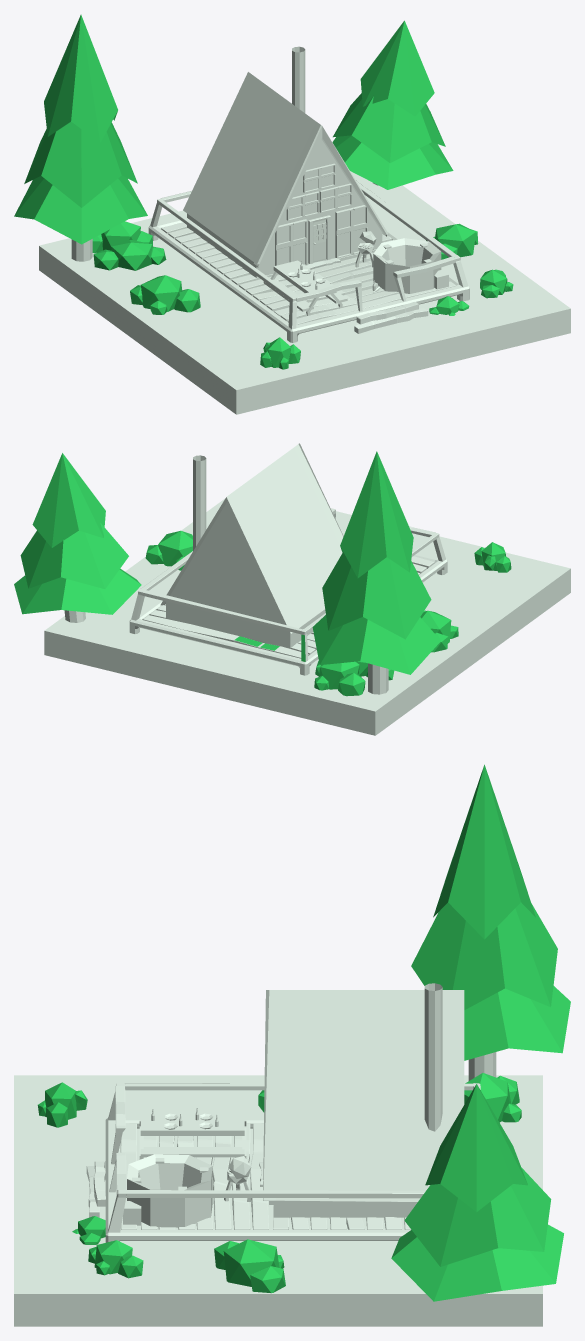
File: house.gltf
3 views of the same model, one above another, from view 1: azimuth 30°, elevation 25°; view 2: azimuth 150°, elevation 25°; view 3: azimuth 270°, elevation 25° (orthographic). The views are drawn at different scales.
Visible parts, largest first — view 1: house; view 2: house; view 3: house.
Part boxes in pixels (x1,y1,x2,y2): house: [14, 14, 570, 414]; house: [14, 443, 570, 735]; house: [14, 764, 570, 1326].
Size of the model in its own units: 22.34 by 13.7 by 19.35.
Materials: 1 (1 with a texture image).
